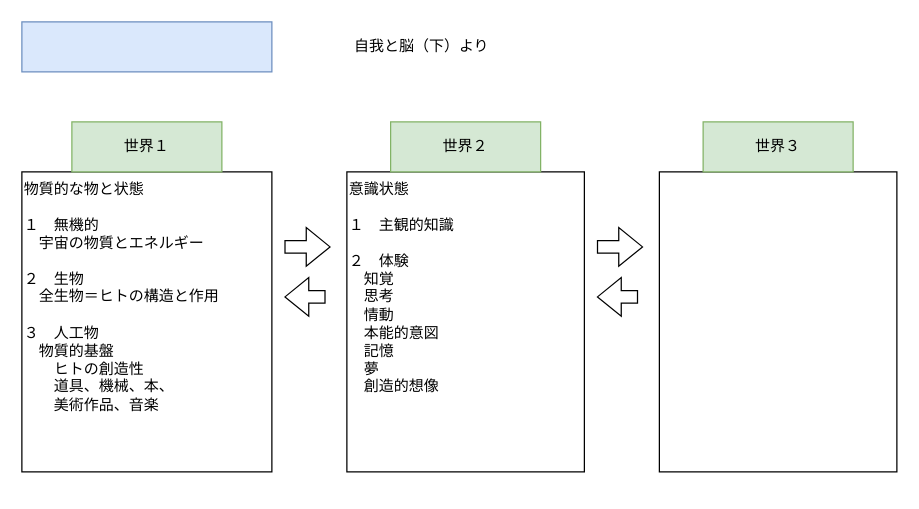
The diagram is 919 pixels wide and 509 high, and some of its shapes have lost their labels. The centre of each missing label's shape, as x and y in pixels:
"ポパーの３つの世界 各世界の特性" belongs at (146,46).
"客観的意味での知覚 １ 物質的基盤に符号化された文化的遺産 哲学的 神学的 科学的 歴史的 文学的 芸術的 技術的 ２ 理論体系 科学的問題 批判的議論" belongs at (777,321).
